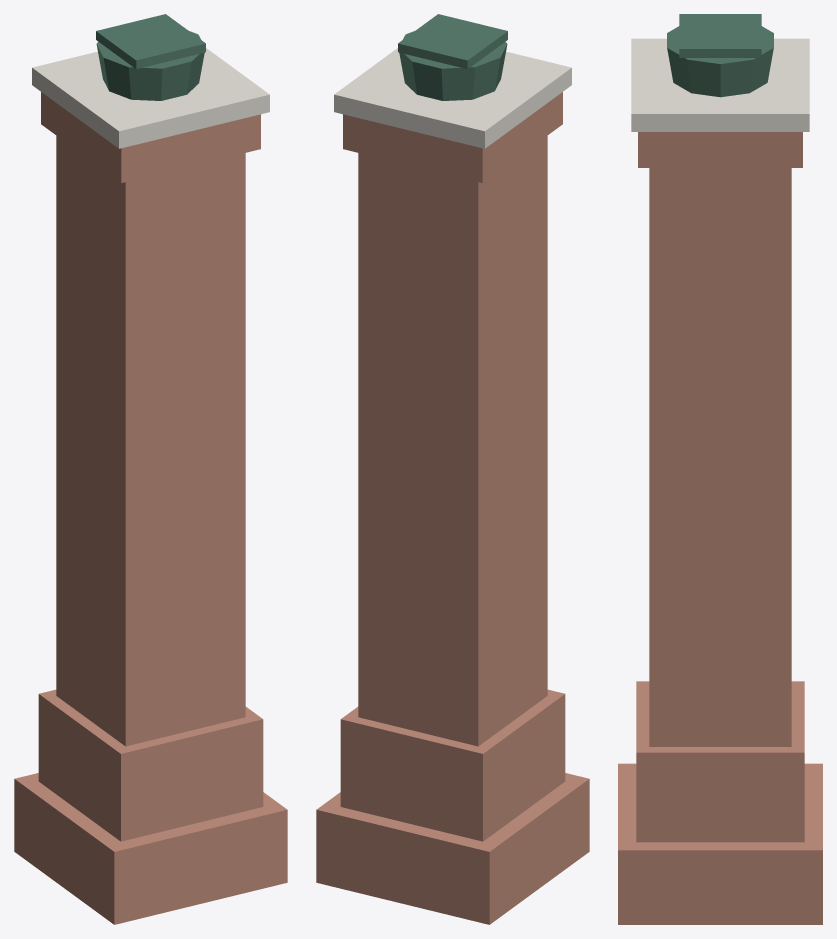
Rendered from botanical-glasshouse-and-palm-house-botanical-glasshou-adf83cc1__38542.glb.
3 views of the same model, side by side, from view 1: azimuth 30°, elevation 25°; view 2: azimuth 150°, elevation 25°; view 3: azimuth 270°, elevation 25° (orthographic). The views are drawn at different scales.
Parts seen in each view (by area): view 1: botanical-glasshouse-and-palm-house-boiler-flue-chimney; view 2: botanical-glasshouse-and-palm-house-boiler-flue-chimney; view 3: botanical-glasshouse-and-palm-house-boiler-flue-chimney.
Part boxes in pixels (bbox=[...]): botanical-glasshouse-and-palm-house-boiler-flue-chimney: bbox=[14, 14, 287, 924]; botanical-glasshouse-and-palm-house-boiler-flue-chimney: bbox=[316, 14, 589, 924]; botanical-glasshouse-and-palm-house-boiler-flue-chimney: bbox=[618, 14, 822, 924].
Size of the model in its own units: 1.24 by 5.68 by 1.24.
